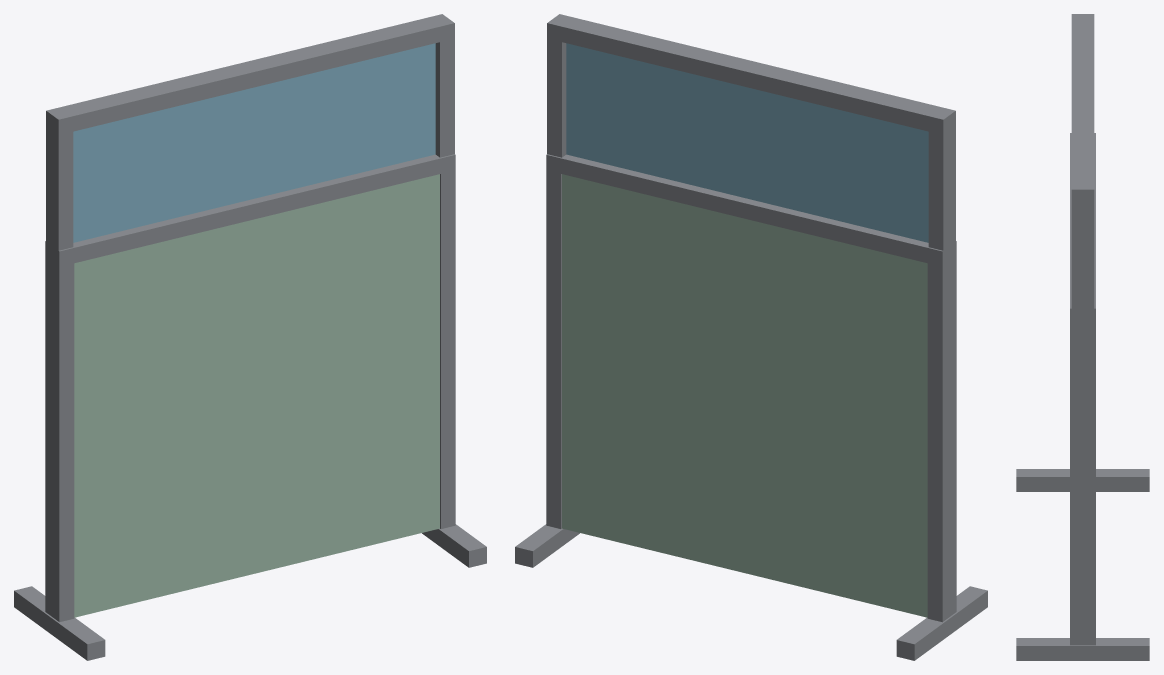
The model's file is office-partition-08.glb.
3 renders of one model, left to right at view 1: azimuth 30°, elevation 25°; view 2: azimuth 150°, elevation 25°; view 3: azimuth 270°, elevation 25°, orthographic. The views are drawn at different scales.
Visible parts, largest first — view 1: office_partition_08; view 2: office_partition_08; view 3: office_partition_08.
Part boxes in pixels (x1,y1,x2,y2): office_partition_08: (14, 14, 486, 660); office_partition_08: (515, 14, 987, 660); office_partition_08: (1016, 14, 1149, 660).
Size of the model in its own units: 1.26 by 1.56 by 0.4.
